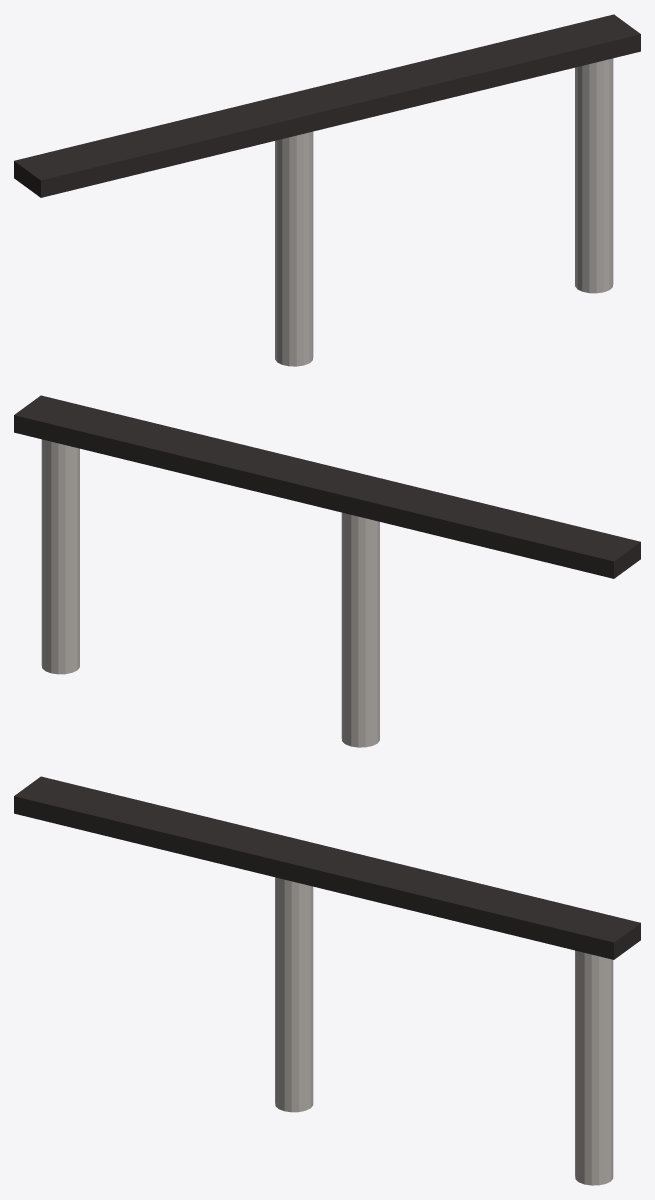
The model's file is Rampe.fbx.
3 views of the same model, one above another, from view 1: azimuth 30°, elevation 25°; view 2: azimuth 150°, elevation 25°; view 3: azimuth 330°, elevation 25° (orthographic).
Parts seen in each view (by area): view 1: Rampe; view 2: Rampe; view 3: Rampe.
Boxes of the visible parts, x1,y1,x2,y2 form: Rampe: [14, 14, 640, 366]; Rampe: [14, 395, 640, 747]; Rampe: [14, 776, 640, 1185].
Size of the model in its own units: 180 by 72.5 by 14.
